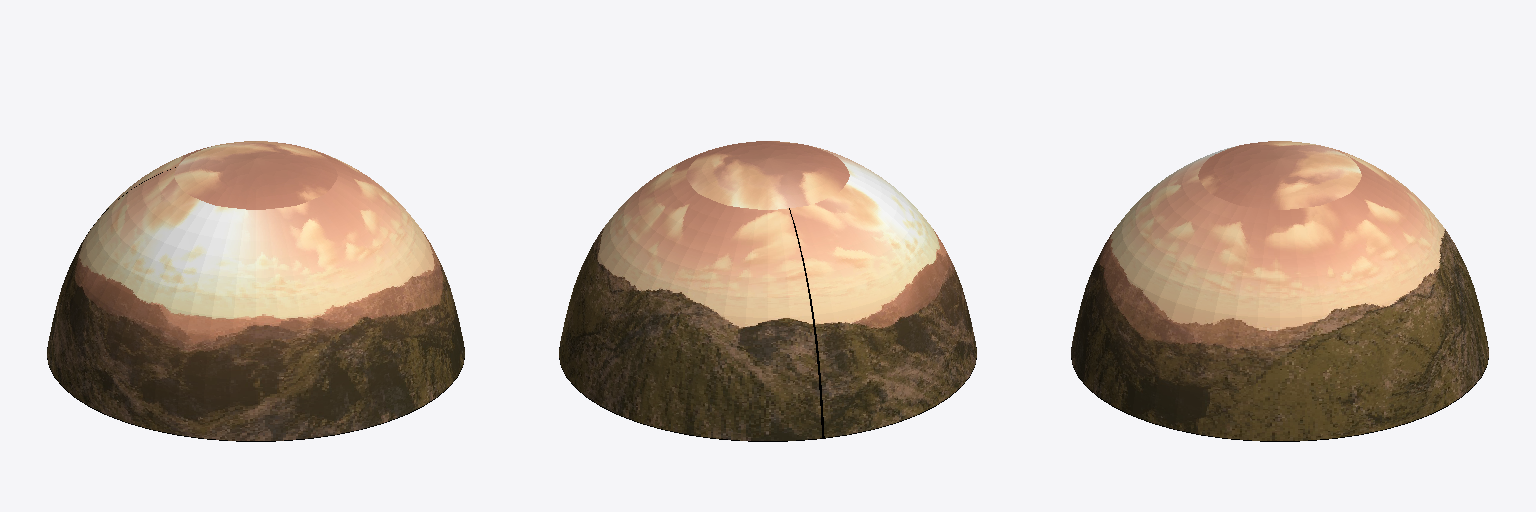
3 renders of one model, left to right at view 1: azimuth 30°, elevation 25°; view 2: azimuth 150°, elevation 25°; view 3: azimuth 270°, elevation 25°, orthographic.
Parts seen in each view (by area): view 1: mesh01; view 2: mesh01; view 3: mesh01.
Part boxes in pixels (x1,y1,x2,y2): mesh01: (47, 141, 464, 441); mesh01: (559, 141, 976, 441); mesh01: (1071, 141, 1488, 441).
Bounding box in the file's own units: 4202 × 2159 × 4202.
Materials: 1 (1 with a texture image).